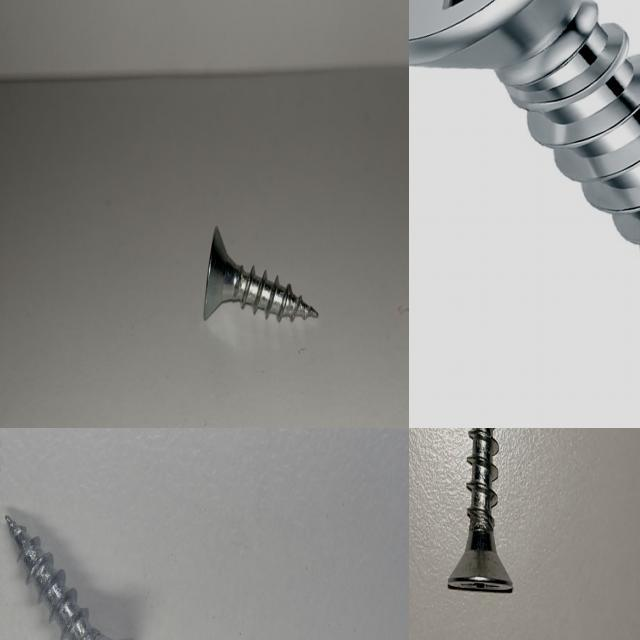Screw: (409, 0, 640, 269), (2, 508, 143, 640), (203, 226, 318, 321), (448, 428, 513, 591)
